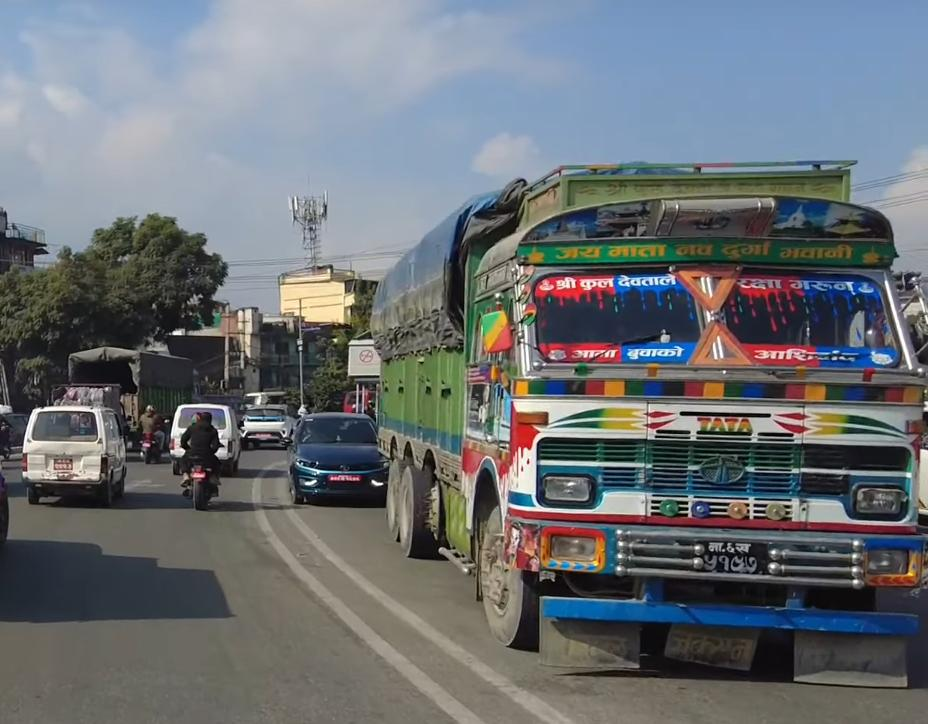bike: (179, 449, 221, 510)
car: (285, 411, 390, 504), (237, 400, 296, 448)
truck: (368, 159, 927, 688), (61, 342, 202, 441)
van: (20, 403, 127, 506), (166, 398, 242, 474)
